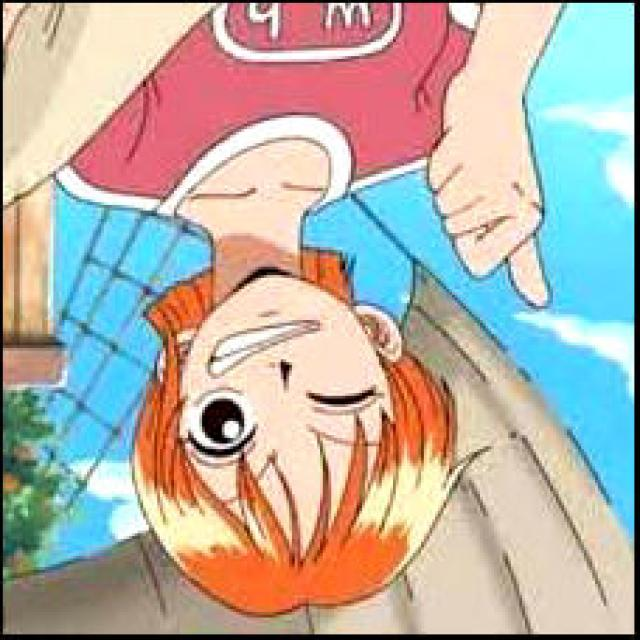Nami: (42, 6, 580, 617)
